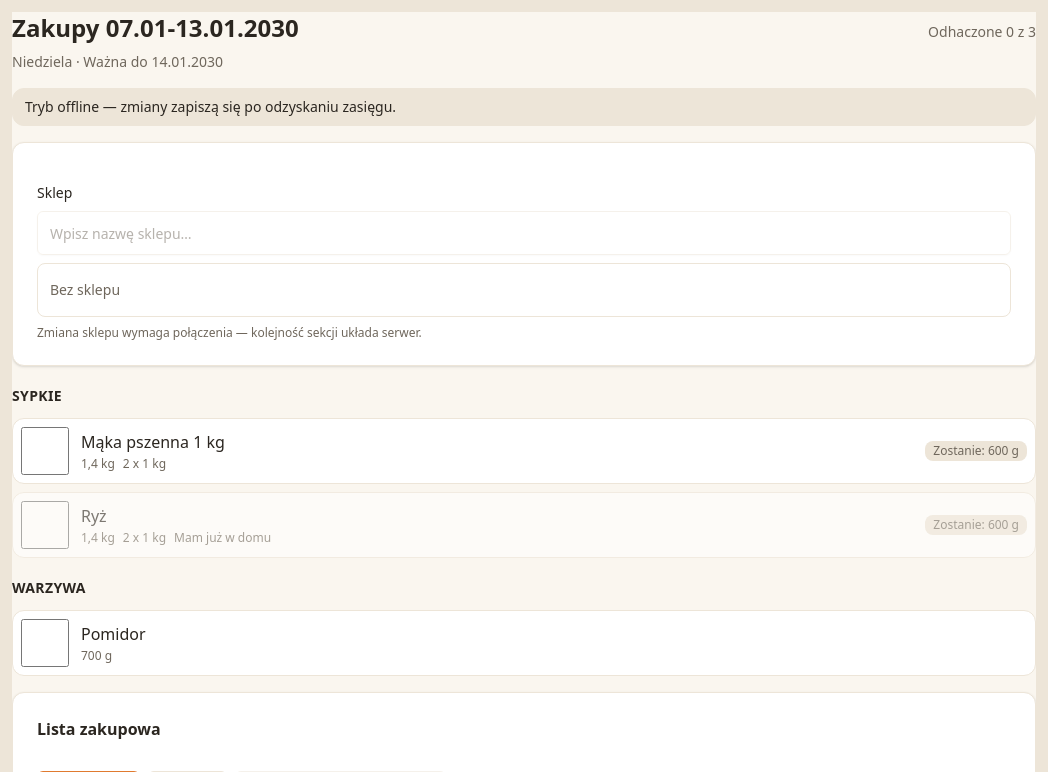
Scenario: ListaZakupowPage › offline: odhaczenie NIE idzie na serwer, ale UI reaguje i pokazuje banner
Expected: the message with test id "offline-banner" shows "Tryb offline", [25, 97, 396, 116]
Step 1. Click the checkbox with test id "shopping-check-1" → [45, 451], box [21, 427, 69, 475]
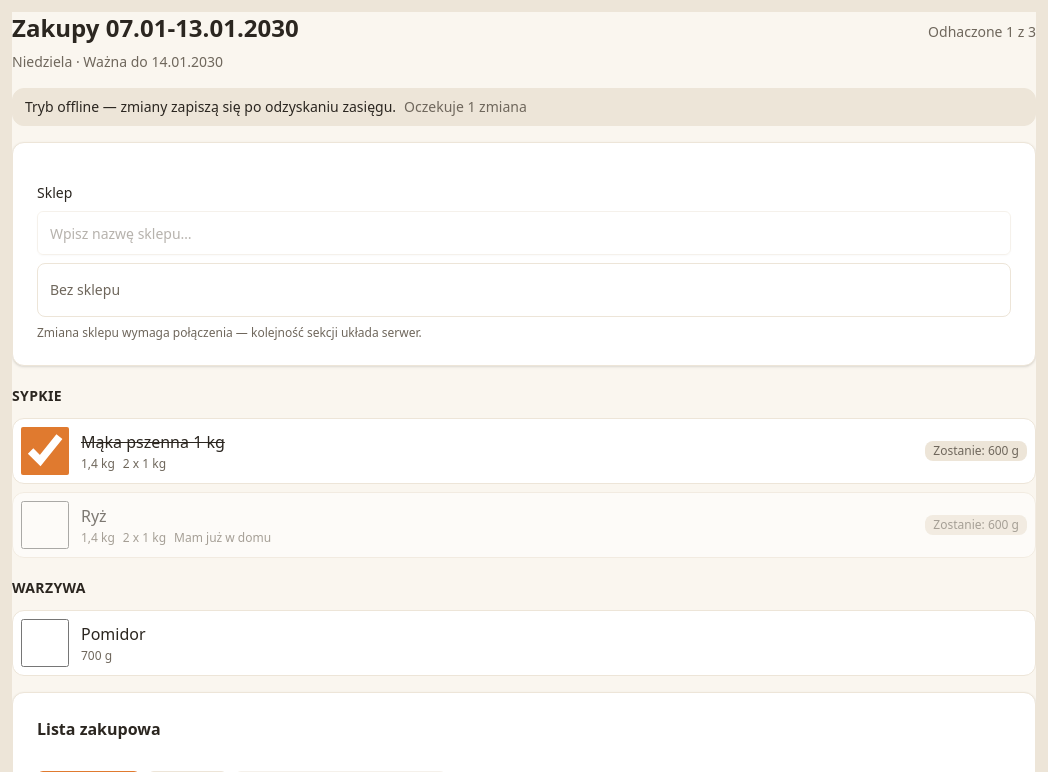
Expected: the element with test id "lista-sklep" shows "Zmiana sklepu wymaga połączenia", [37, 324, 422, 341]
Expected: the text with test id "lista-progress" reads "Odhaczone 1 z 3", [928, 22, 1036, 41]
